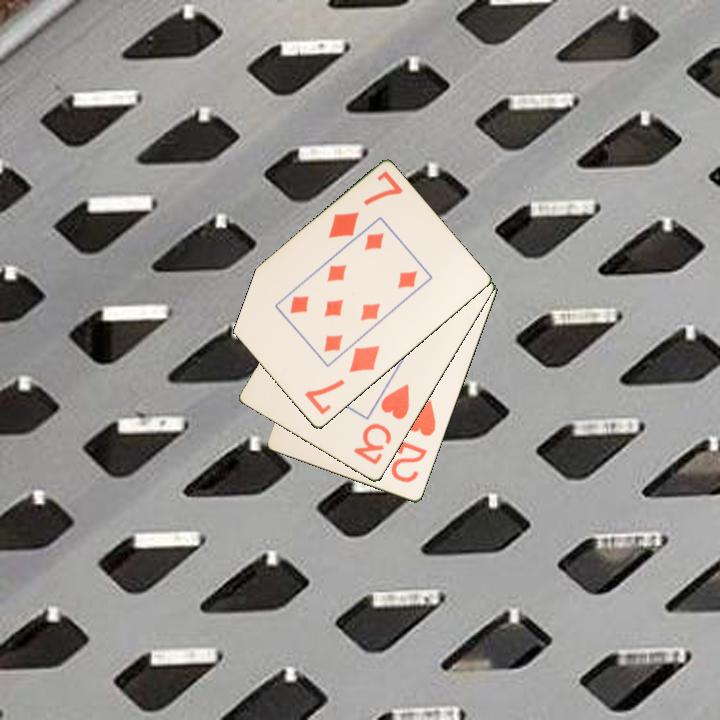2h: (388, 396, 439, 486)
3h: (350, 381, 413, 468)
7d: (301, 342, 383, 418), (325, 168, 406, 242)
